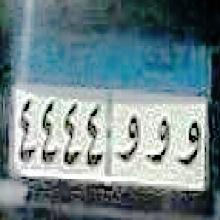4: (61, 97, 80, 169), (84, 102, 104, 170), (40, 98, 56, 169), (19, 96, 32, 164)
waw: (113, 113, 142, 165), (145, 117, 171, 168), (178, 118, 202, 166)
